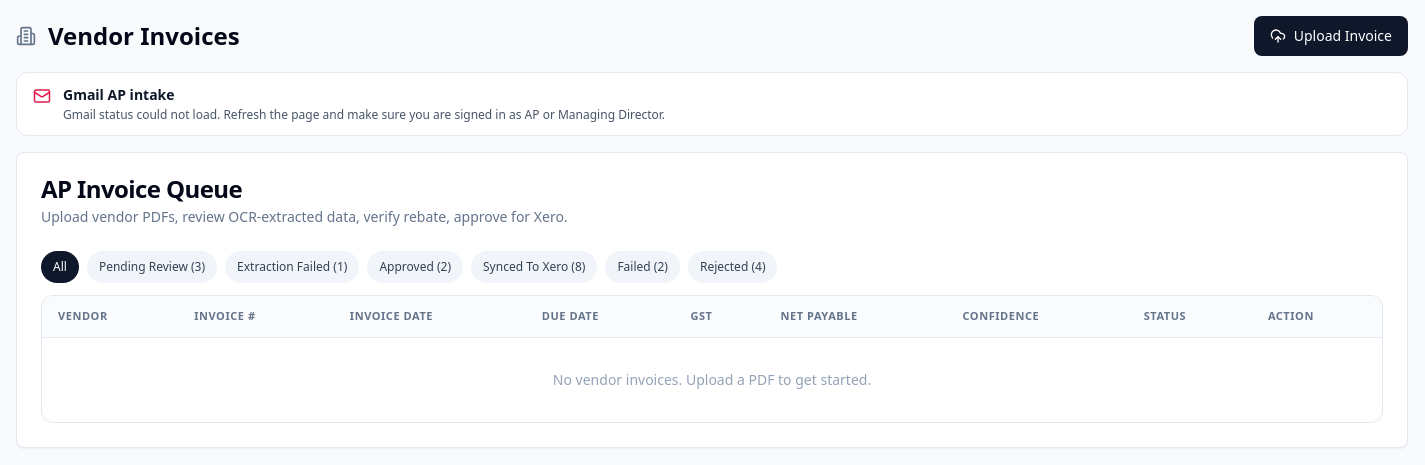
Test case: keeps all status badge counts accurate after selecting a filter
Click the button "pending review (3)".
click(152, 267)  # box [87,251,217,283]
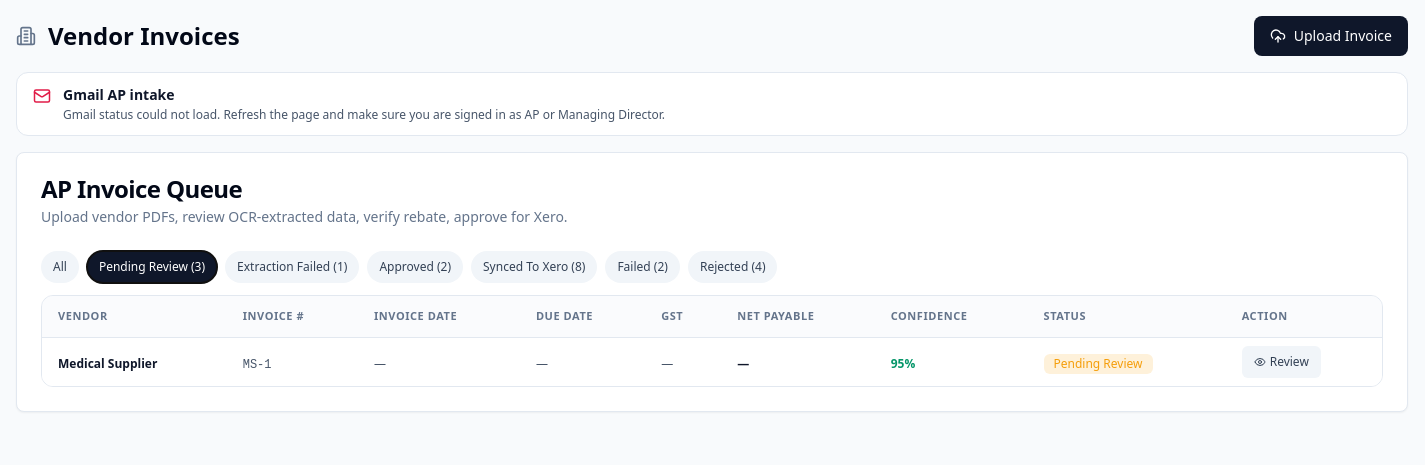
Expected: the button "failed (2)" is shown, [605,251,680,283]
Result: the text "Medical Supplier" is shown at [58,355,157,372]
